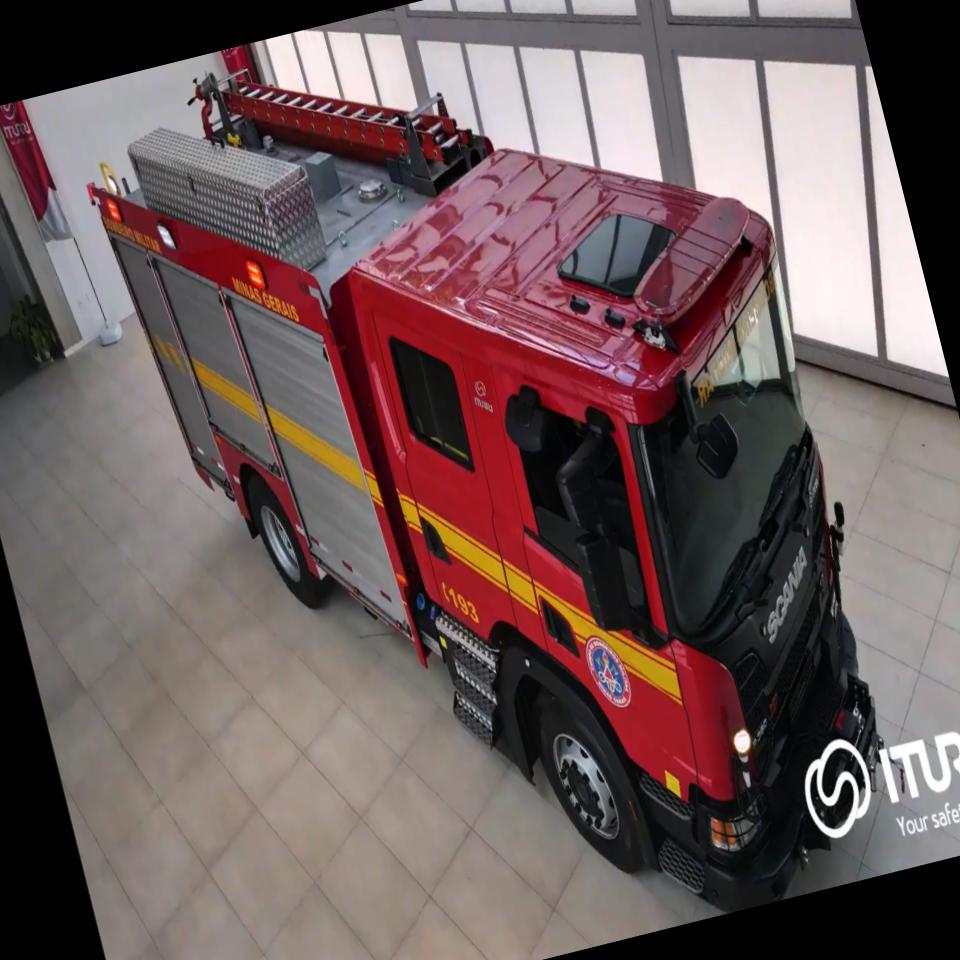viatura: (58, 0, 935, 960)
